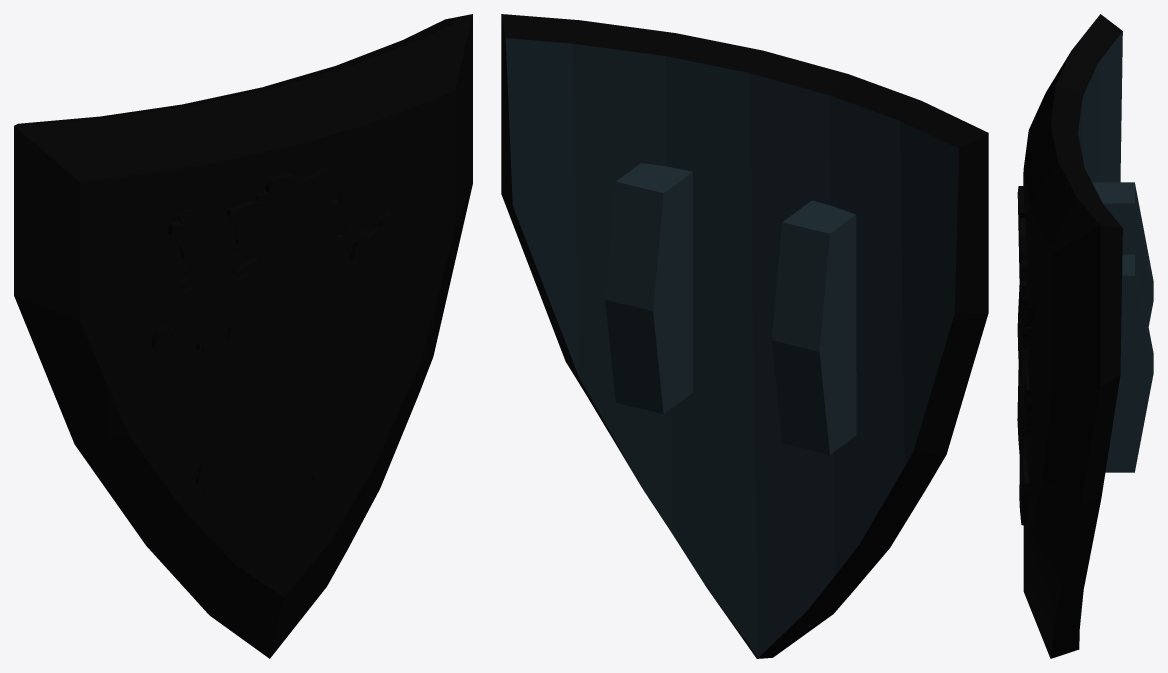
File: Shield 05.fbx
3 renders of one model, left to right at view 1: azimuth 30°, elevation 25°; view 2: azimuth 150°, elevation 25°; view 3: azimuth 270°, elevation 25°, orthographic. The views are drawn at different scales.
Parts seen in each view (by area): view 1: Shiled 05; view 2: Shiled 05; view 3: Shiled 05.
Part boxes in pixels (box(x1,y1,x2,y2)): Shiled 05: box(14, 14, 472, 658); Shiled 05: box(501, 14, 988, 658); Shiled 05: box(1017, 14, 1153, 658).
Bounding box in the file's own units: 82.17 × 97.46 × 22.3.
